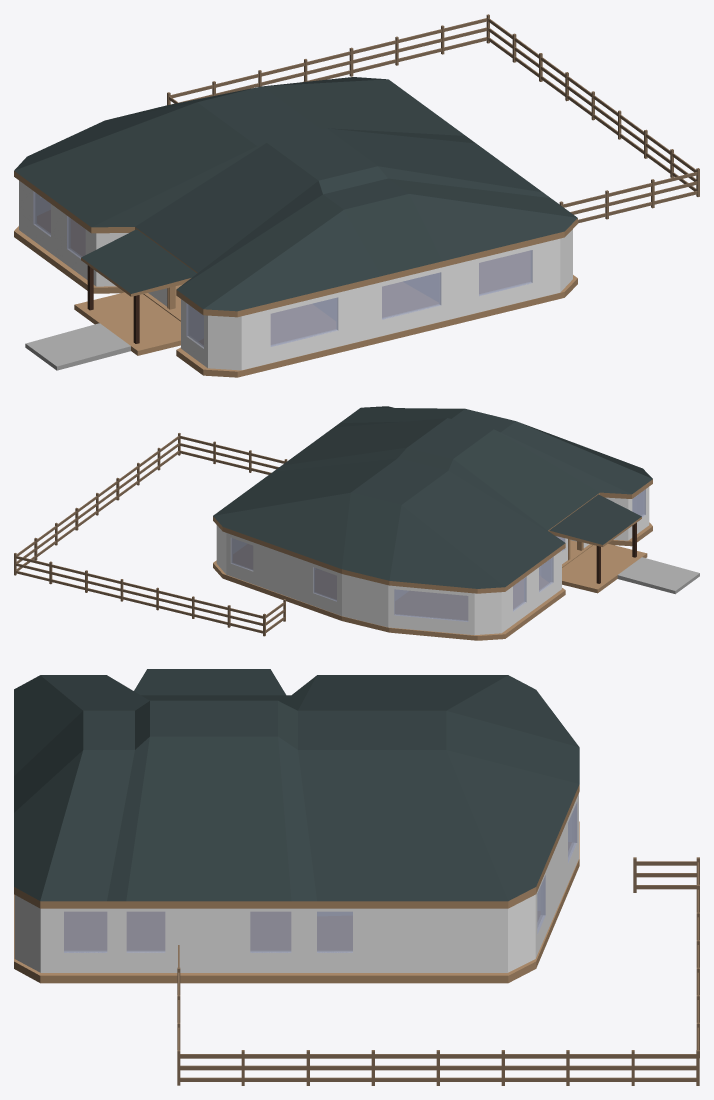
File: house_with_interior_walls_low_poly_style.glb
3 renders of one model, top to bottom at view 1: azimuth 30°, elevation 25°; view 2: azimuth 150°, elevation 25°; view 3: azimuth 270°, elevation 25°, orthographic. The views are drawn at different scales.
Parts seen in each view (by area): view 1: House13 Roof, House13 Walls, House13 Floors, Cube.004, House13 Walls.001, House13 Walls.002; view 2: House13 Roof, House13 Walls, House13 Floors, Cube.004, House13 Walls.001; view 3: House13 Roof, House13 Walls, House13 Floors, Cube.004, House13 Walls.001.
Part boxes in pixels (x1,y1,x2,y2): House13 Roof: (14,77,577,343); House13 Walls: (19,180,572,370); House13 Floors: (14,210,577,377); Cube.004: (167,14,699,223); House13 Walls.001: (33,191,532,348); House13 Walls.002: (314,273,438,319); House13 Roof: (213,406,652,593); House13 Walls: (216,487,649,635); House13 Floors: (213,522,699,640); Cube.004: (14,433,287,636); House13 Walls.001: (230,489,645,621); House13 Roof: (14,669,579,908); House13 Walls: (14,793,578,972); House13 Floors: (14,821,579,983); Cube.004: (177,857,699,1085); House13 Walls.001: (64,802,577,952).
Bounding box in the file's own units: 3425 × 624 × 2511.
